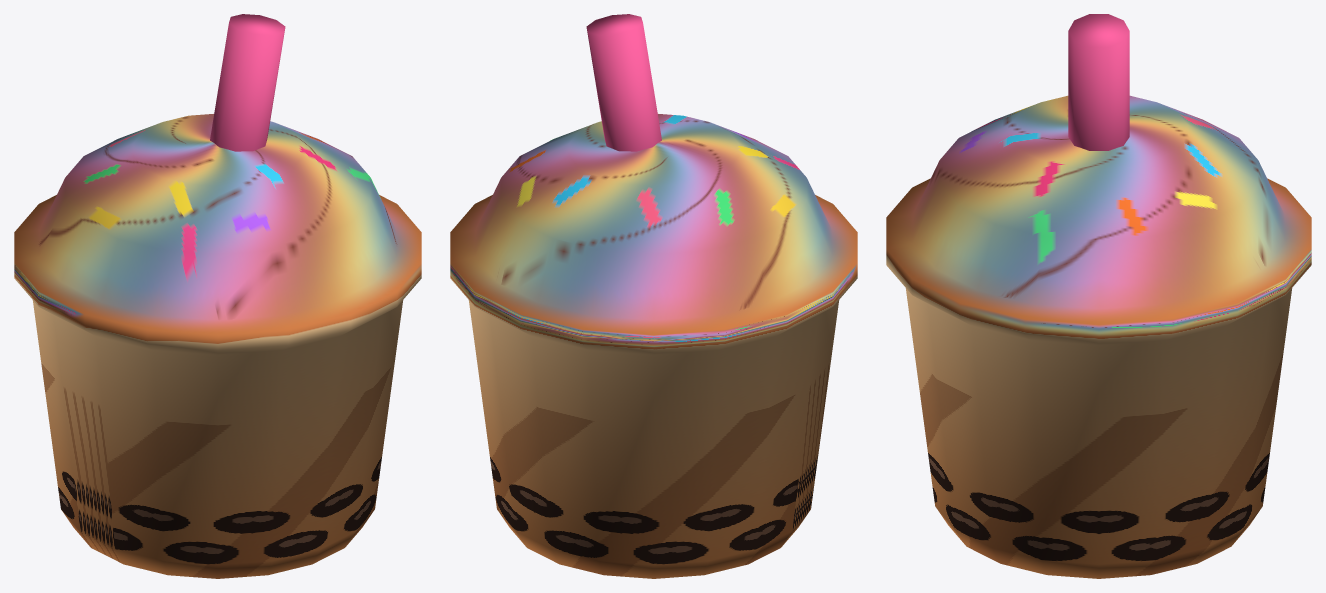
The model's file is w1_06_boba_tea.glb.
3 views of the same model, side by side, from view 1: azimuth 30°, elevation 25°; view 2: azimuth 150°, elevation 25°; view 3: azimuth 270°, elevation 25° (orthographic). The views are drawn at different scales.
Visible parts, largest first — view 1: W1_06_BobaTea; view 2: W1_06_BobaTea; view 3: W1_06_BobaTea.
Boxes of the visible parts, <box> form: W1_06_BobaTea: <box>14,14,421,578</box>; W1_06_BobaTea: <box>450,14,857,578</box>; W1_06_BobaTea: <box>886,14,1311,578</box>.
Size of the model in its own units: 0.96 by 1.25 by 0.9454.
1 material, 1 textured.
